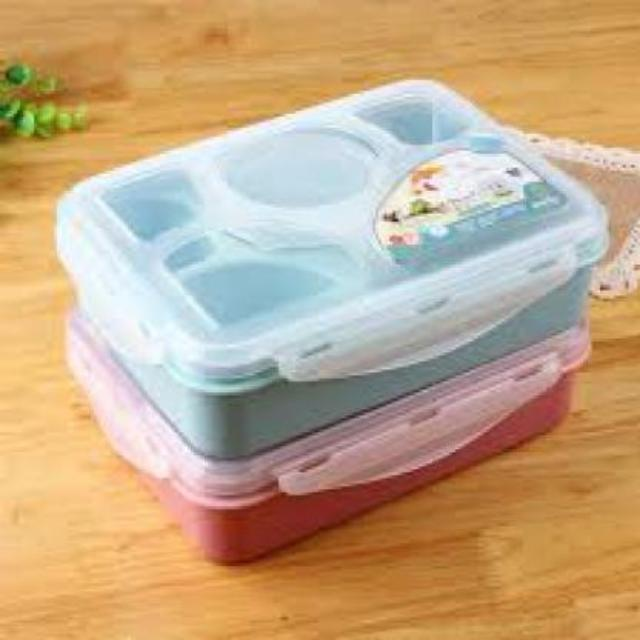plastic_box: (53, 80, 602, 564)
